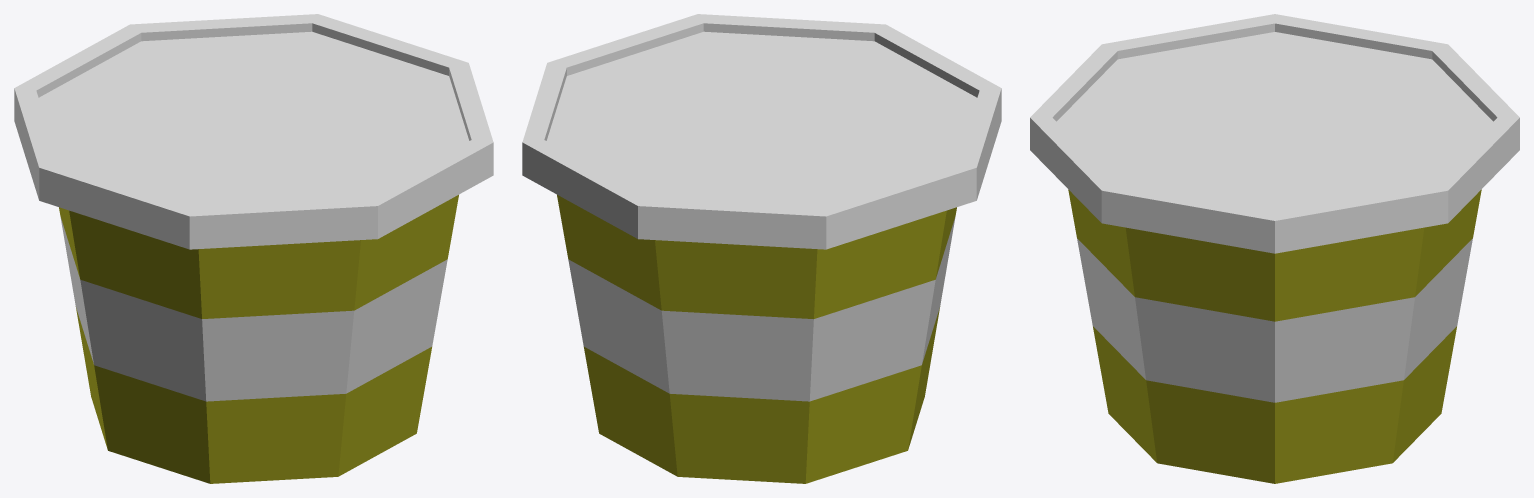
File: Container2.fbx
The picture shows the model from 3 angles, left to right: view 1: azimuth 30°, elevation 25°; view 2: azimuth 150°, elevation 25°; view 3: azimuth 270°, elevation 25°; orthographic projection.
Visible parts, largest first — view 1: Container2; view 2: Container2; view 3: Container2.
Part boxes in pixels (x1,y1,x2,y2): Container2: (14,14,493,483); Container2: (522,14,1001,483); Container2: (1030,14,1519,483).
Size of the model in its own units: 16.54 by 11.03 by 16.54.
